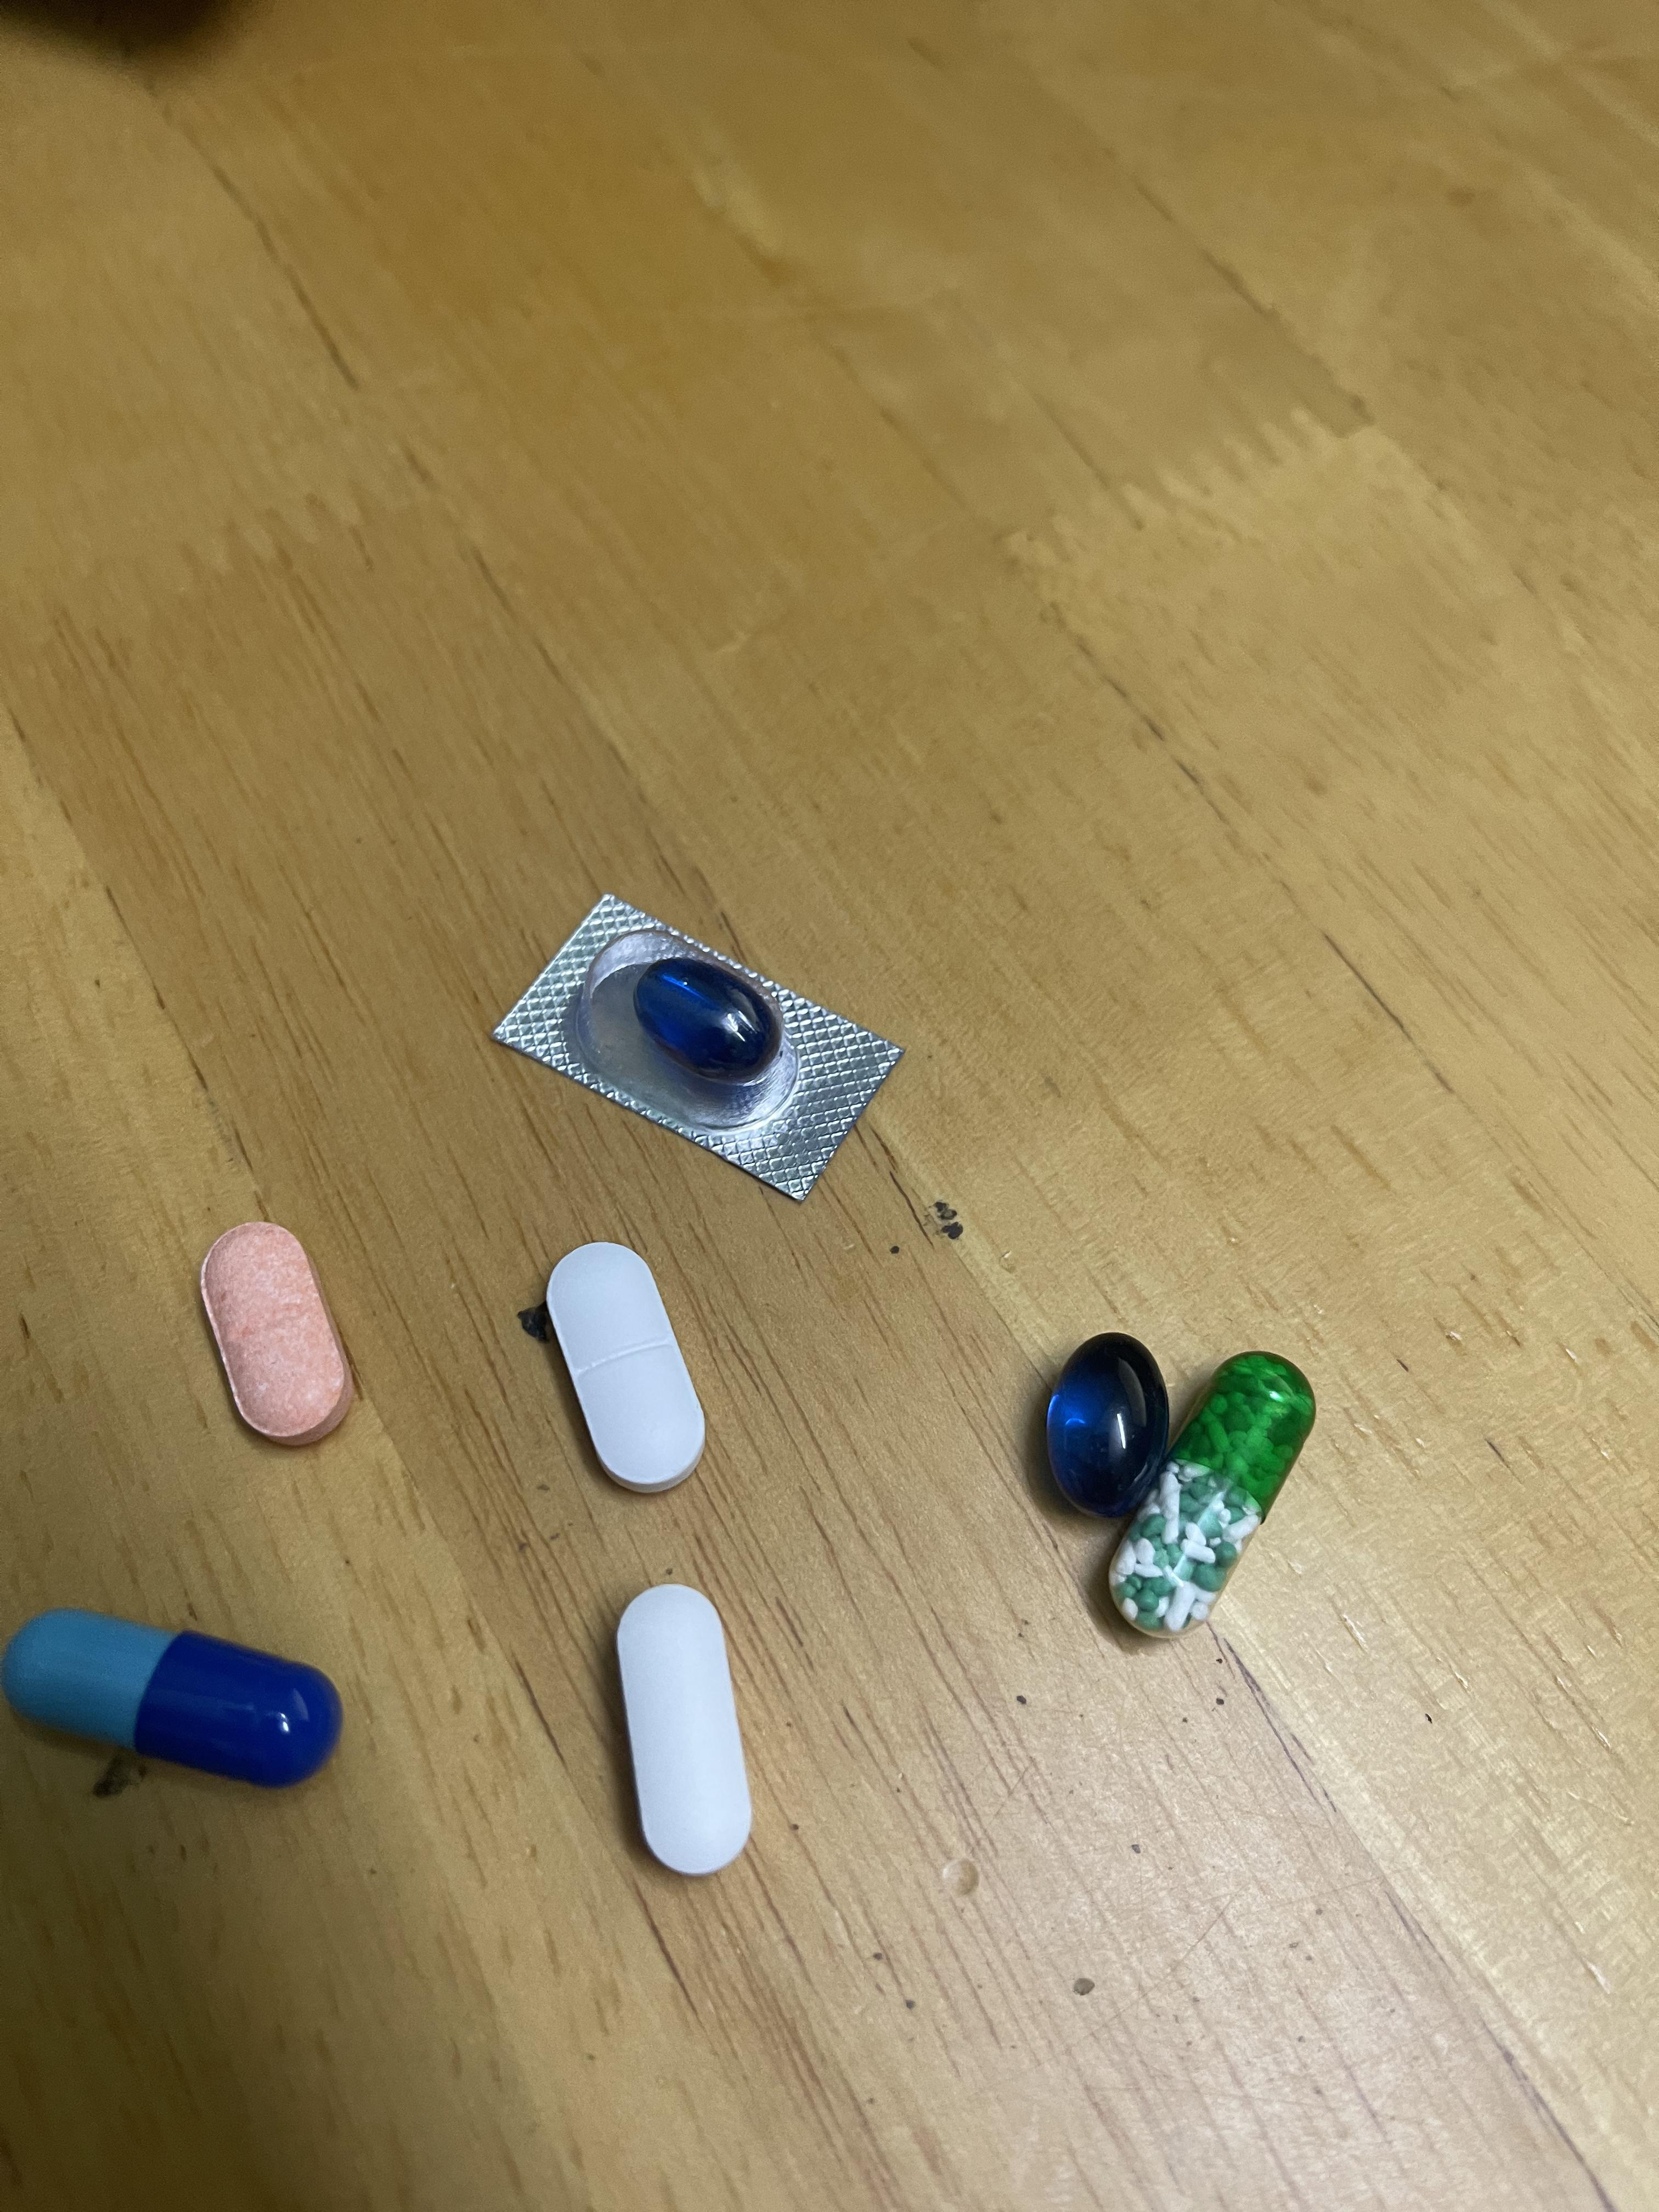Lincomyxin_500mg: (1049, 1339, 1150, 1508), (634, 956, 775, 1076)
Loratadine_10mg: (200, 1224, 350, 1440)
Paracetamol_350mg: (549, 1244, 706, 1487)
Paracetamol_500mg: (617, 1581, 753, 1869)
Paracetamol_650mg: (1112, 1359, 1309, 1630)
pill: (5, 1615, 331, 1785)
